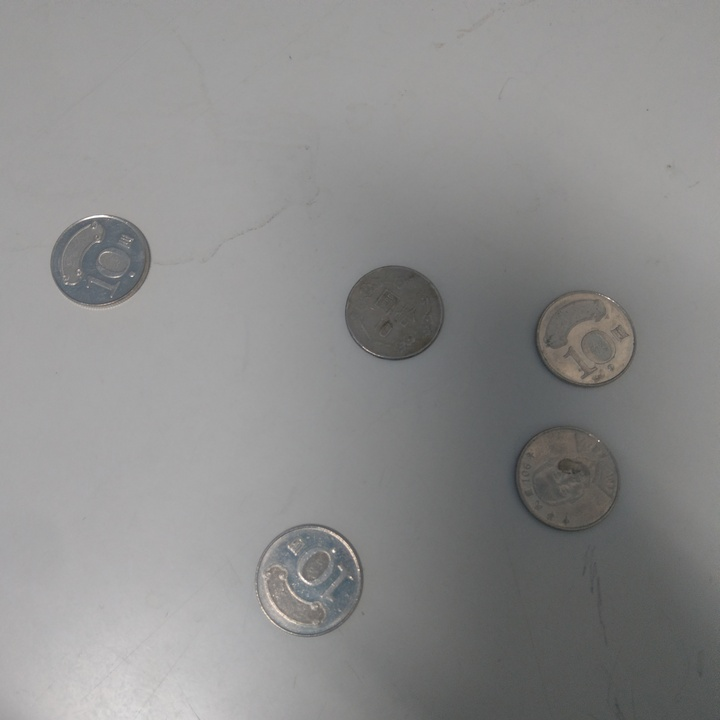10 dollar: (256, 521, 366, 640), (514, 427, 623, 532), (532, 291, 639, 389), (343, 264, 445, 363), (48, 216, 152, 310)
